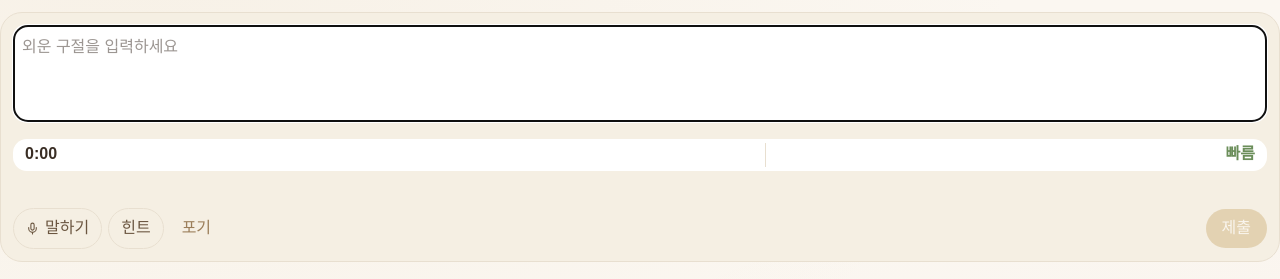
MemorizeCheckPanel › disables submit until something is typed
Expected: the button "제출" is disabled, [1206, 209, 1267, 248]
Type "그" into the text box.
click(640, 74); type("그")  # box [13, 25, 1267, 122]
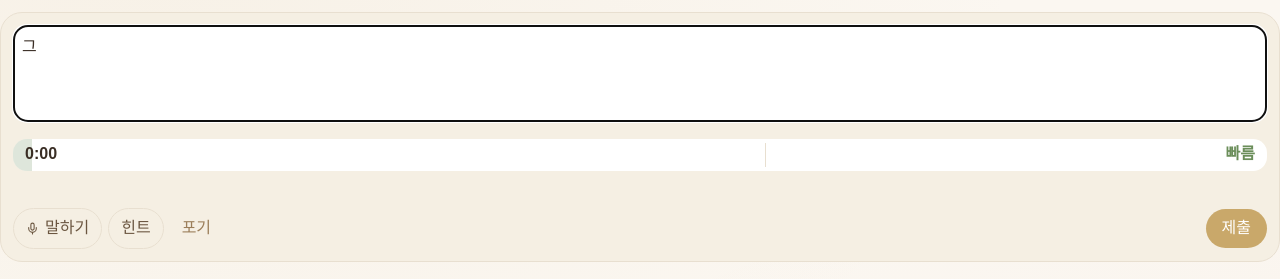
Expected: the button "제출" is enabled, [1206, 209, 1267, 248]
